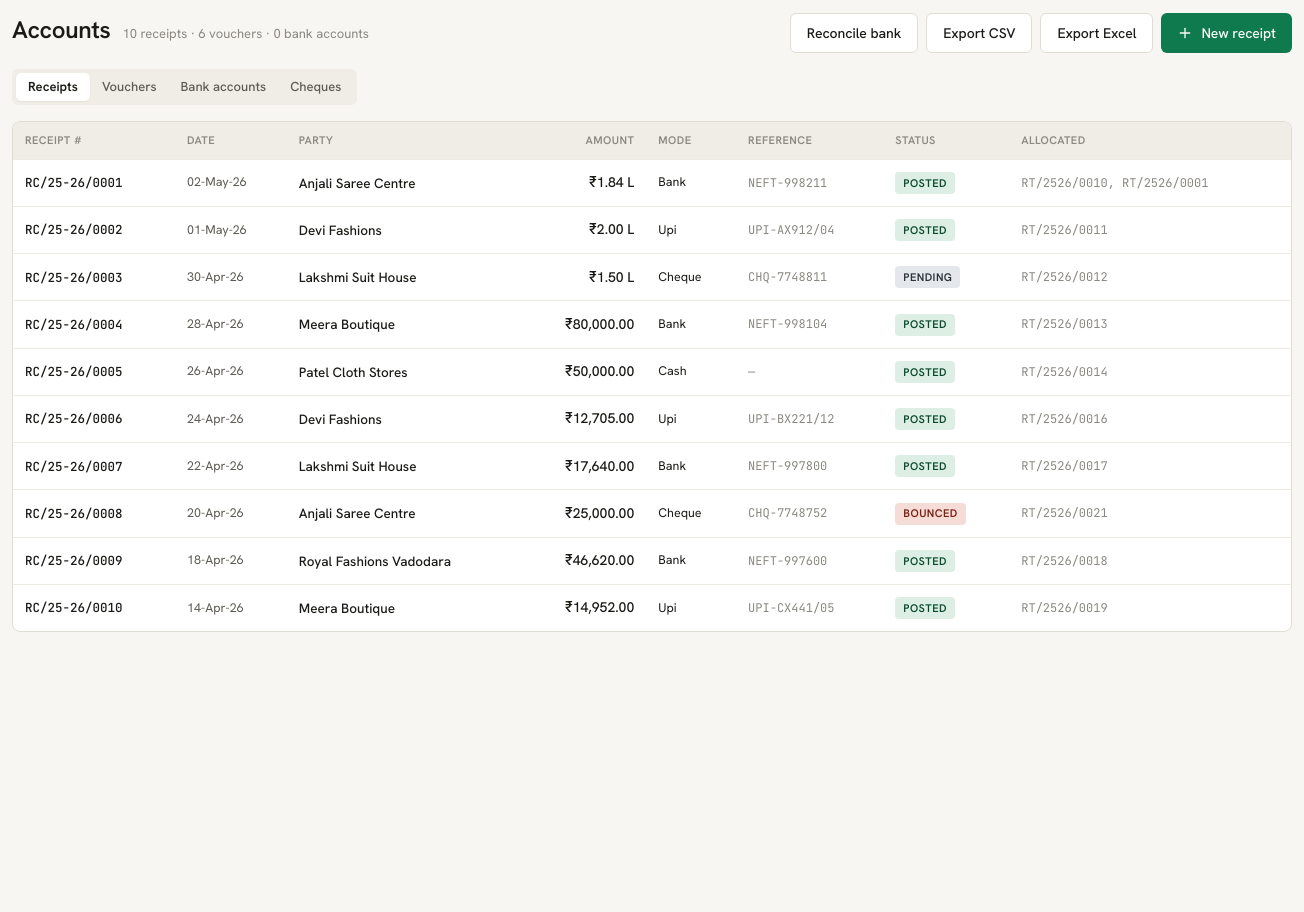
AccountingHub › exposes Bank accounts and Cheques tabs (CUT-103)
Expected: the text "RC/25-26/0001" is shown, [25, 174, 122, 191]
// Bank accounts tab
Click the tab "Bank accounts" at (223, 87), box [168, 73, 278, 101]
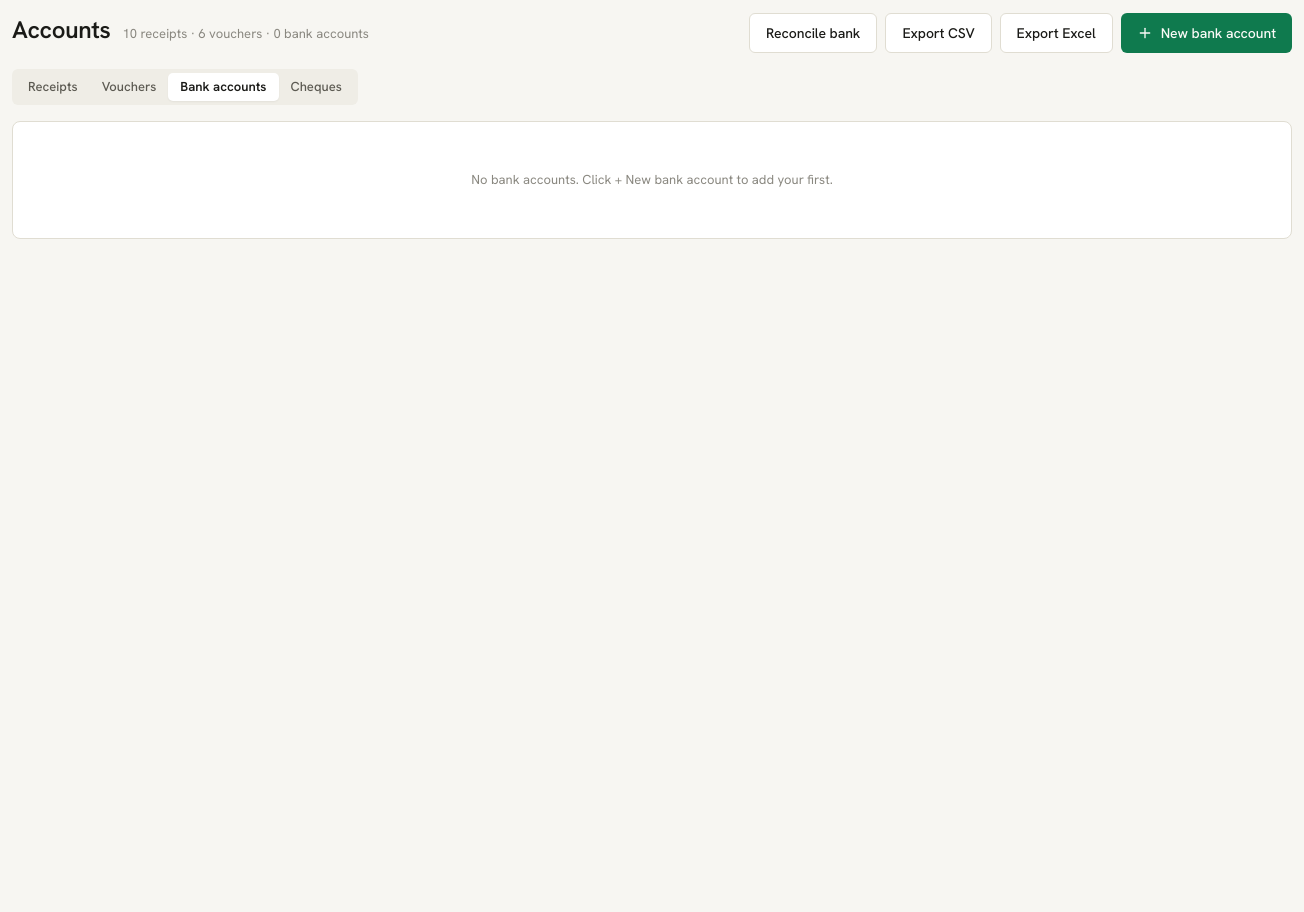
Expected: the text "No bank accounts. Click + New bank account to add your first." is shown, [471, 171, 833, 188]
// Cheques tab
Click the tab "Cheques" at (316, 87), box [278, 73, 354, 101]
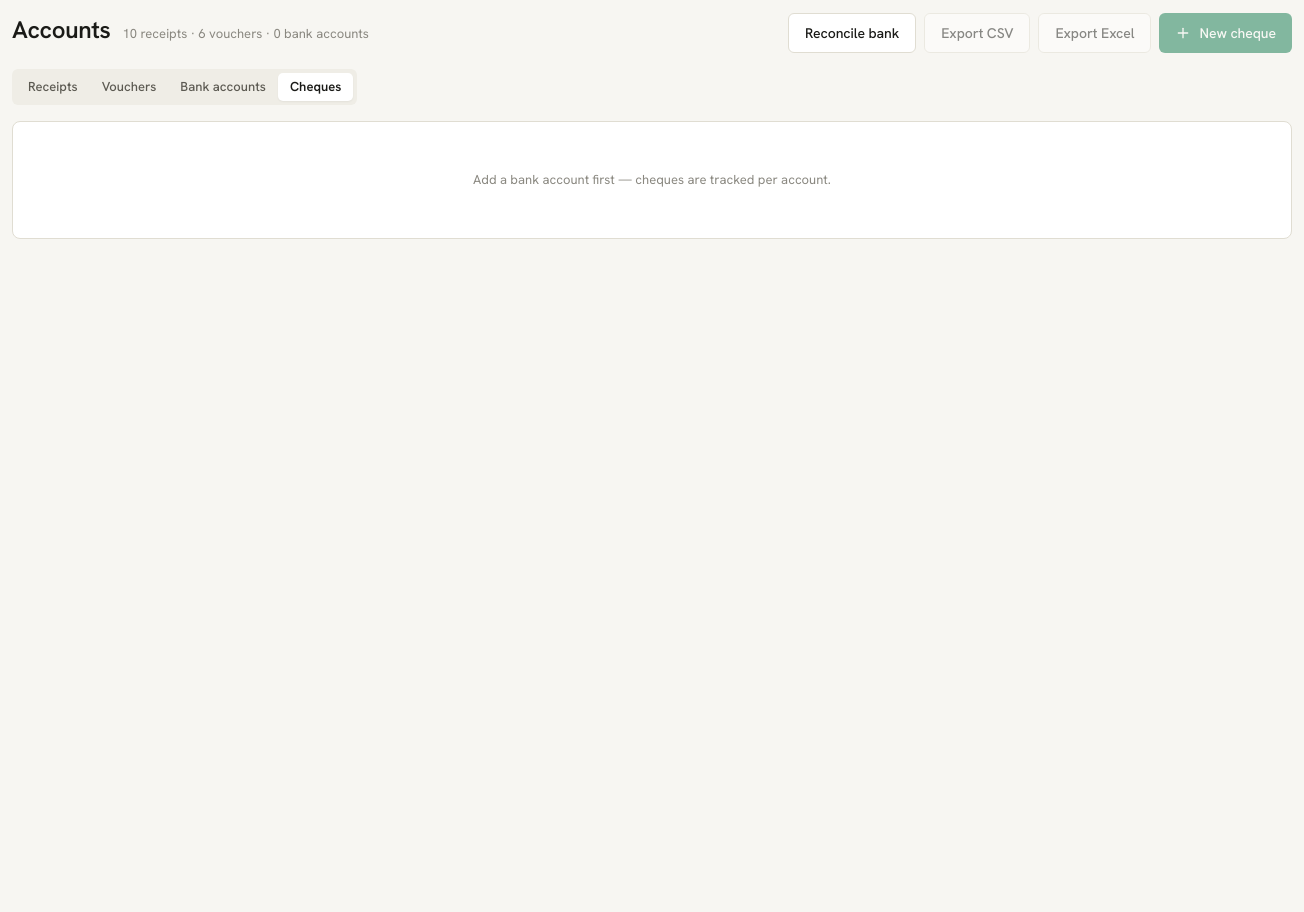
Expected: the text "Add a bank account first — cheques are tracked per account." is shown, [473, 171, 831, 188]
